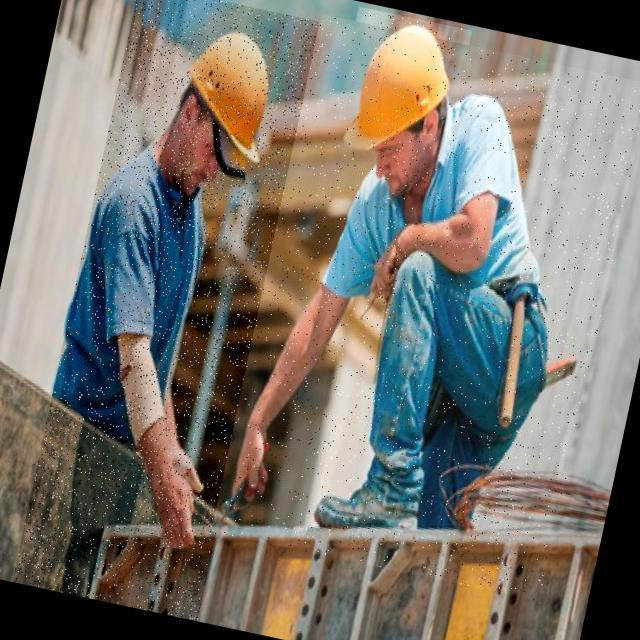Helmet: (163, 13, 276, 174), (341, 24, 452, 153)
Person: (226, 9, 583, 541), (27, 3, 296, 563)
Safety Boot: (303, 431, 438, 557)
bare-arms: (141, 429, 207, 556), (225, 415, 274, 510), (366, 219, 414, 311)
no-vest: (325, 88, 548, 297), (51, 144, 210, 426)
